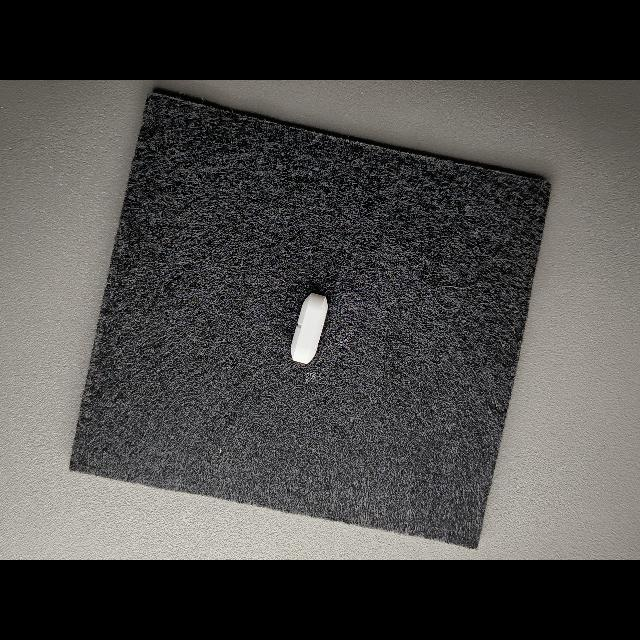Intact Pill: (290, 293, 328, 364)
